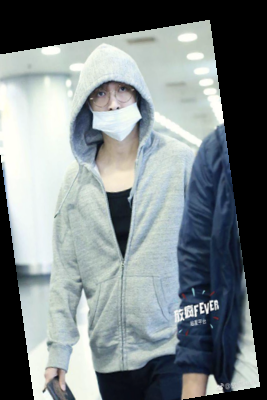mask_weared_incorrect: (79, 44, 154, 151)
